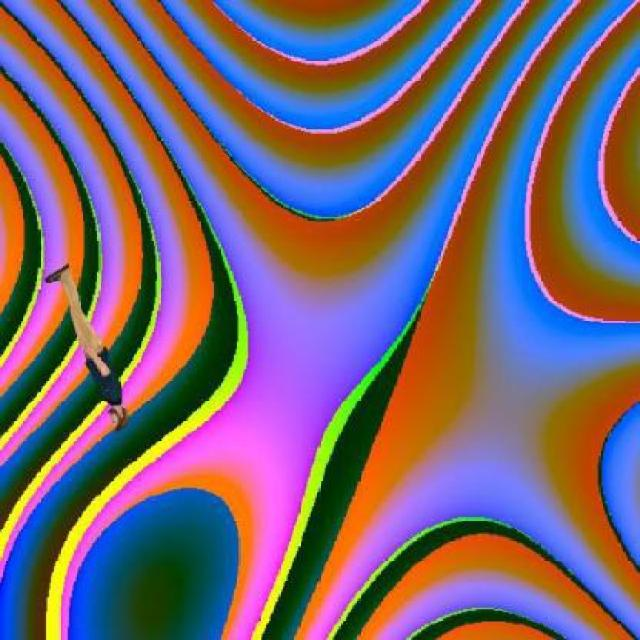Person: (42, 256, 130, 432)
